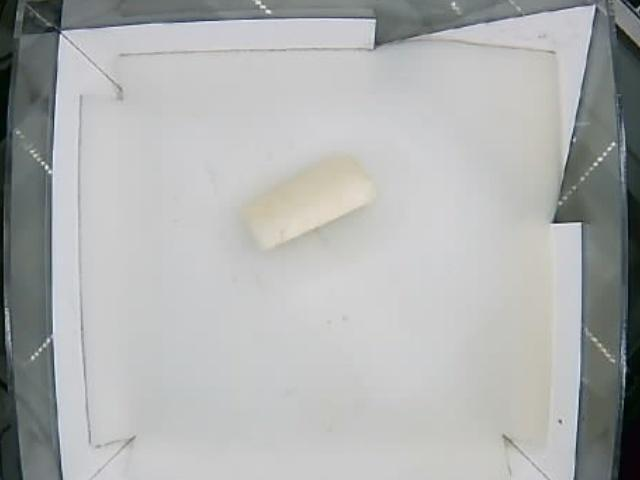Mooli: (238, 156, 373, 254)
